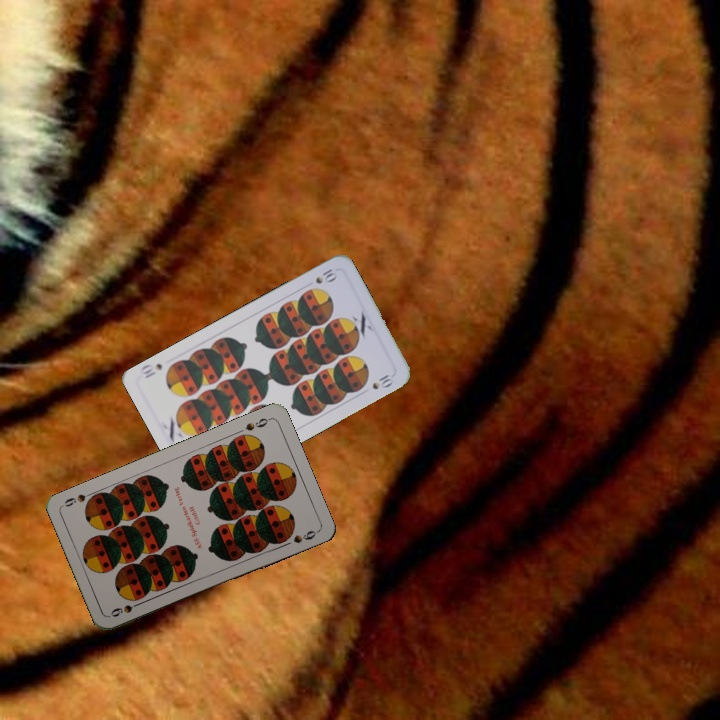S10: (311, 263, 340, 287)
S9: (106, 597, 145, 620), (241, 414, 273, 434)
